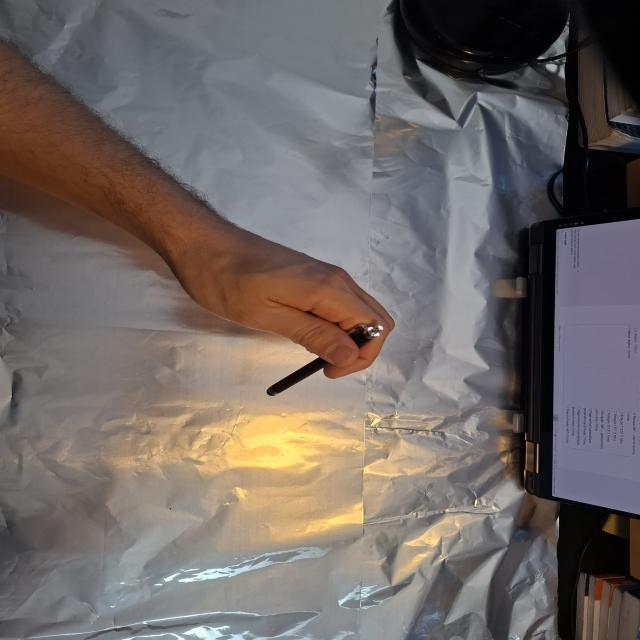glove_off: (170, 220, 398, 380)
